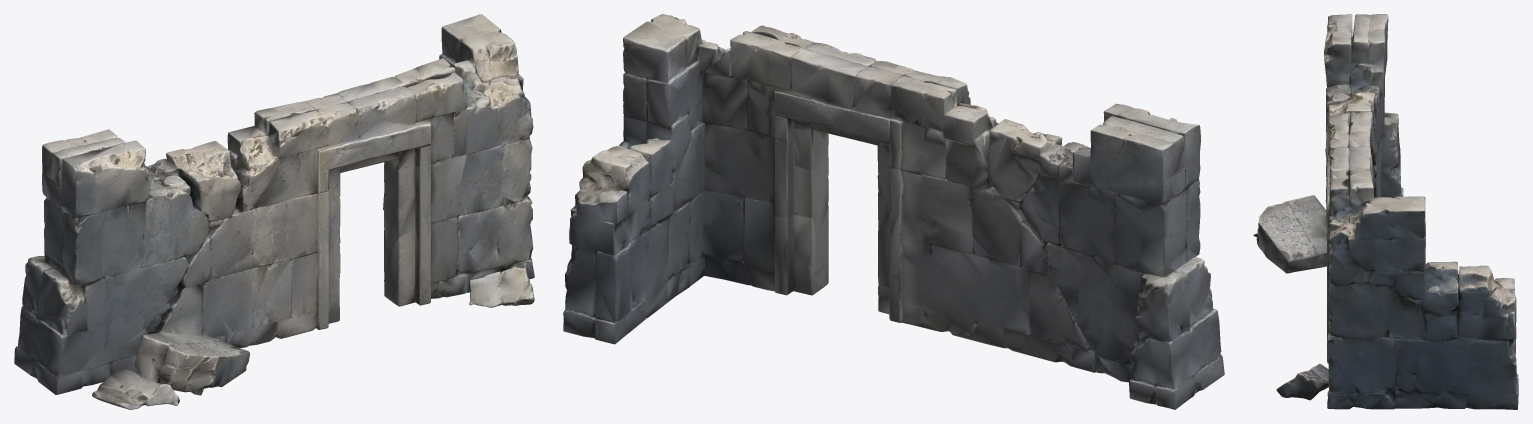
Rendered from portal_ruina.glb.
3 views of the same model, side by side, from view 1: azimuth 30°, elevation 25°; view 2: azimuth 150°, elevation 25°; view 3: azimuth 270°, elevation 25° (orthographic). The views are drawn at different scales.
Visible parts, largest first — view 1: tripo_node_d3dceaa3-fc0d-439b-8b59-9bd99cabfa07; view 2: tripo_node_d3dceaa3-fc0d-439b-8b59-9bd99cabfa07; view 3: tripo_node_d3dceaa3-fc0d-439b-8b59-9bd99cabfa07.
Boxes of the visible parts, x1,y1,x2,y2 form: tripo_node_d3dceaa3-fc0d-439b-8b59-9bd99cabfa07: [14, 14, 534, 409]; tripo_node_d3dceaa3-fc0d-439b-8b59-9bd99cabfa07: [563, 14, 1224, 409]; tripo_node_d3dceaa3-fc0d-439b-8b59-9bd99cabfa07: [1253, 14, 1518, 409].
Bounding box in the file's own units: 0.9996 × 0.4447 × 0.5363.
Materials: 1 (1 with a texture image).
